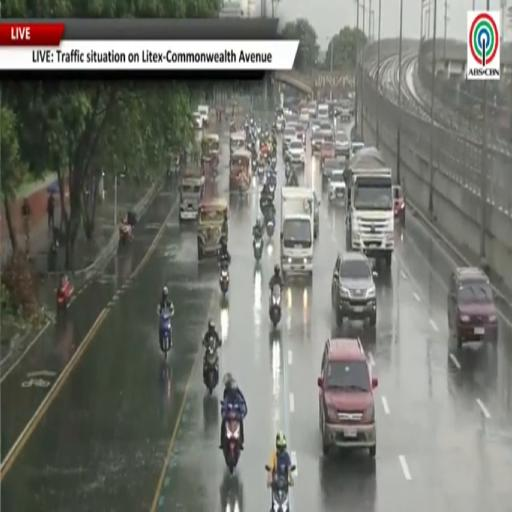car: (318, 339, 377, 457), (448, 267, 498, 347), (332, 252, 377, 327), (322, 158, 344, 184), (328, 169, 345, 202), (287, 139, 305, 167), (393, 185, 405, 226), (312, 131, 333, 153), (320, 140, 336, 166), (283, 126, 296, 154), (313, 190, 320, 239), (336, 132, 350, 156), (351, 132, 365, 155), (311, 132, 323, 153), (198, 105, 209, 126), (295, 124, 305, 145), (276, 108, 285, 131), (351, 141, 365, 155), (194, 112, 203, 130), (308, 101, 317, 118), (300, 108, 309, 123), (311, 120, 320, 134), (320, 122, 332, 132)
jeepney: (197, 199, 228, 261), (180, 173, 204, 220), (230, 150, 252, 193), (201, 134, 219, 179), (230, 132, 246, 154)
motorcycle: (221, 402, 240, 474), (204, 343, 218, 394), (159, 309, 172, 359), (272, 475, 290, 511), (57, 279, 73, 311), (270, 284, 281, 327), (220, 262, 229, 295), (119, 223, 132, 245), (254, 236, 263, 262), (266, 216, 275, 238), (287, 172, 298, 186), (257, 164, 264, 180), (268, 181, 275, 197), (251, 158, 257, 175), (285, 163, 291, 179), (230, 121, 236, 133), (271, 155, 276, 169)
truck: (346, 148, 394, 267), (280, 187, 314, 278), (179, 165, 204, 220)
